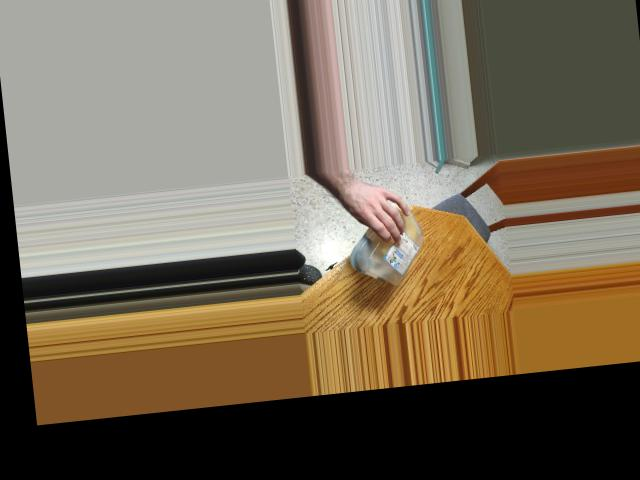cheese: (347, 189, 431, 290)
